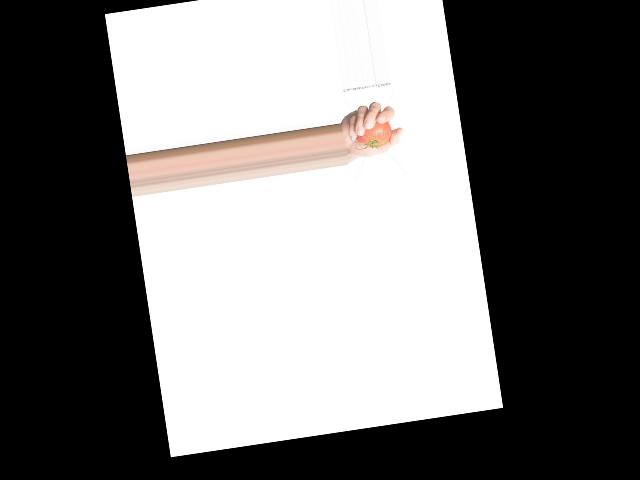tomato: (355, 120, 394, 149)
